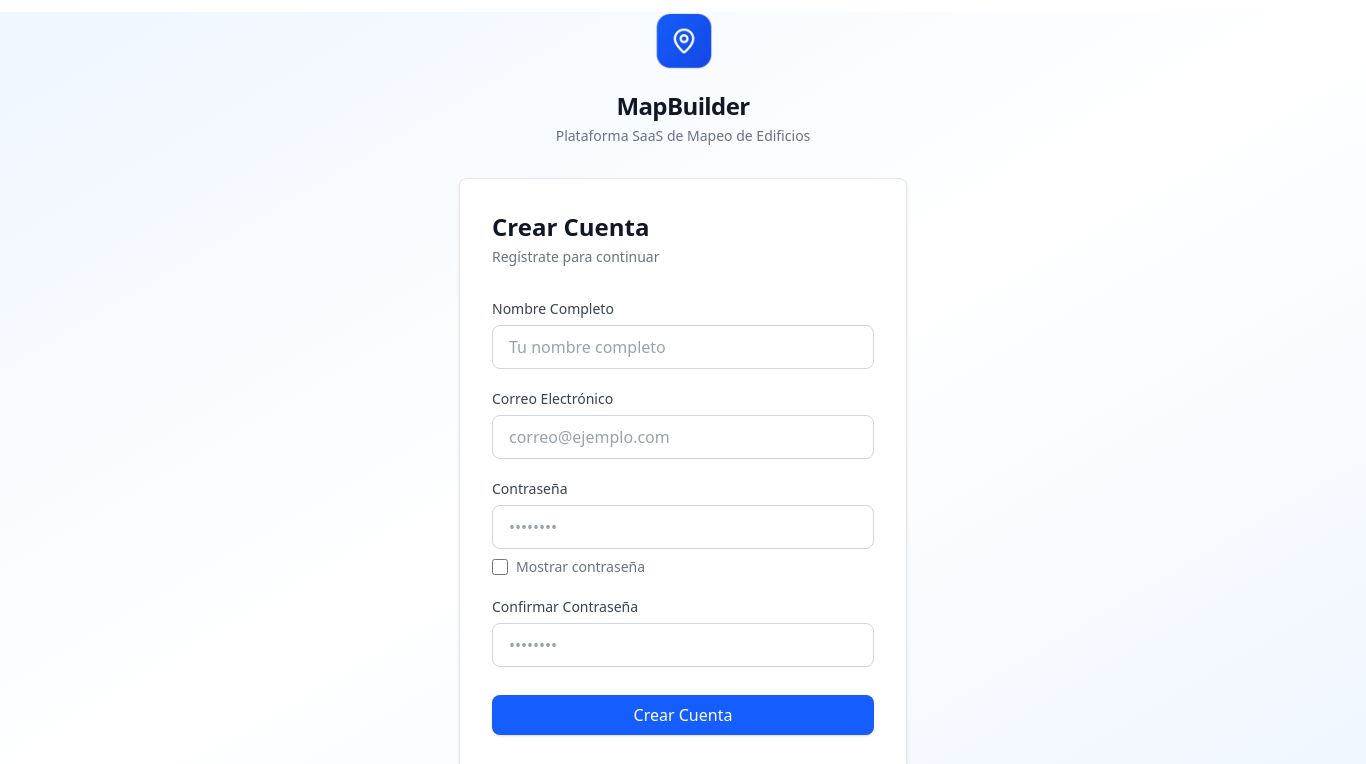
RegisterPage › muestra error cuando las contraseñas no coinciden
The width and height of the screenshot is (1366, 764).
Type "password123" into the password field with placeholder "••••••••" at (683, 527), box top-left (492, 505), bottom-right (874, 549)
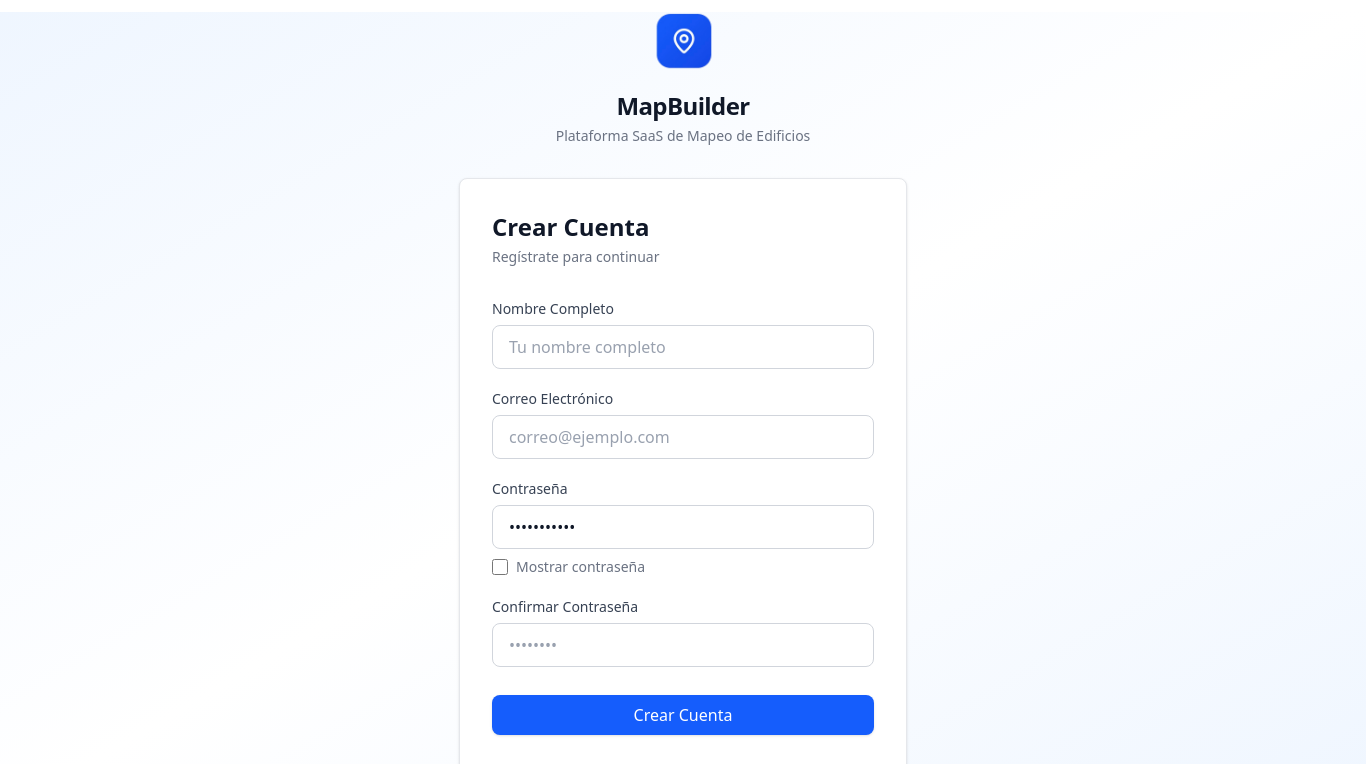
Type "diferente" into the password field with placeholder "••••••••" at (683, 645), box top-left (492, 623), bottom-right (874, 667)
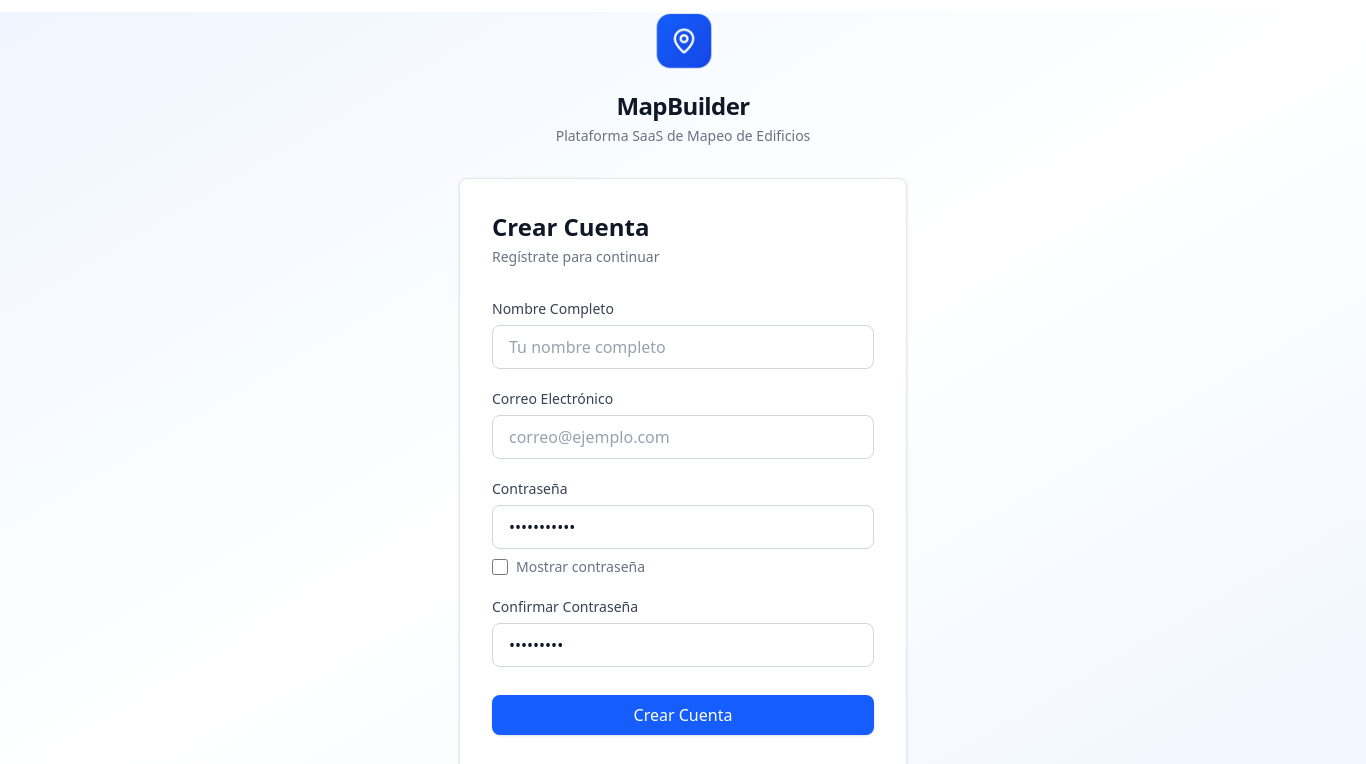
Click the button "Crear Cuenta" at (683, 715), box top-left (492, 695), bottom-right (874, 735)
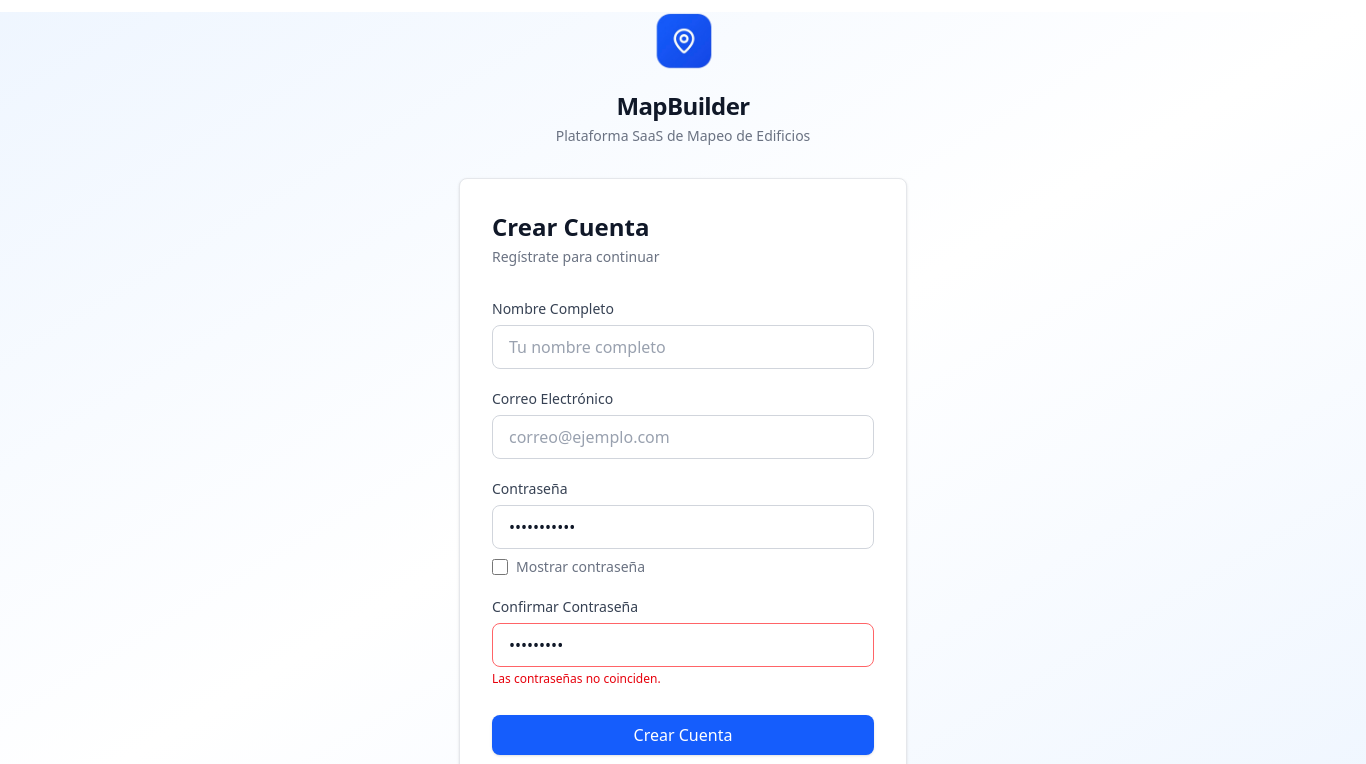
Expected: the text "Las contraseñas no coinciden." is shown, top-left (492, 670), bottom-right (661, 687)
